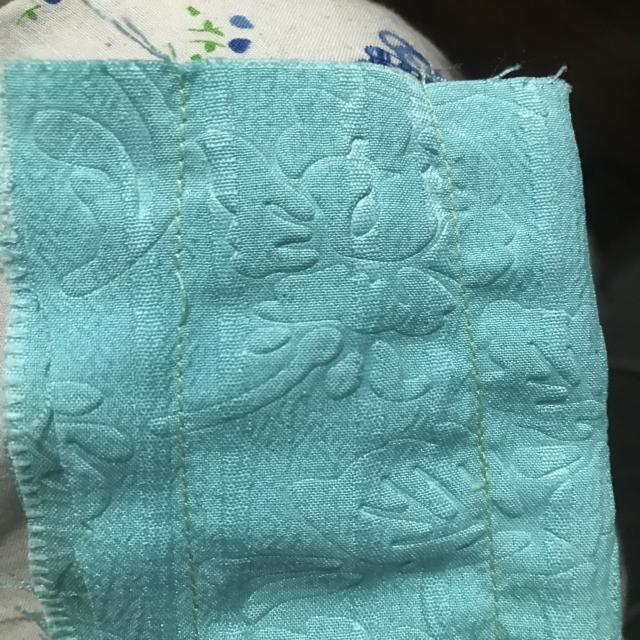good: (164, 384, 210, 495)
skip: (150, 246, 222, 336)
